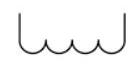inductor: (9, 5, 131, 57)
